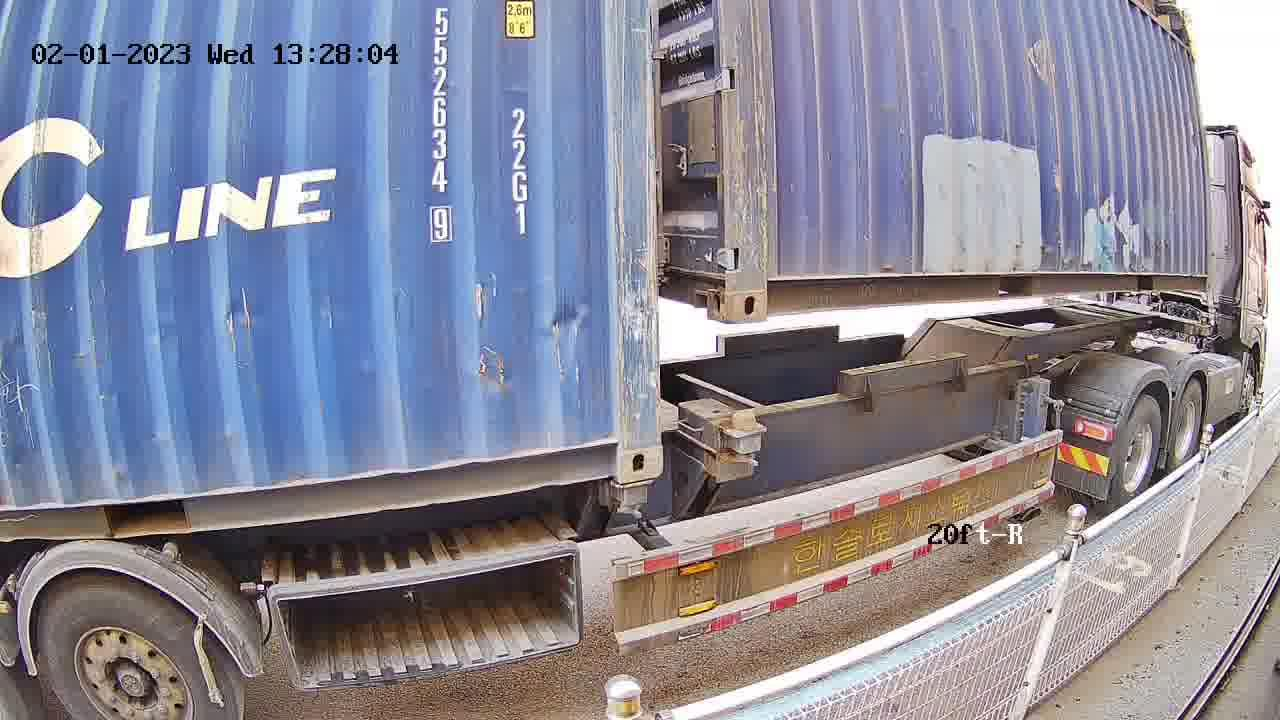Cone: (716, 412, 771, 472), (611, 480, 658, 519)
Hole_L: (727, 244, 803, 323)
Hole_R: (573, 402, 662, 482), (683, 247, 728, 324)
Tire: (39, 577, 236, 719), (1108, 398, 1164, 510), (1167, 380, 1204, 474)
